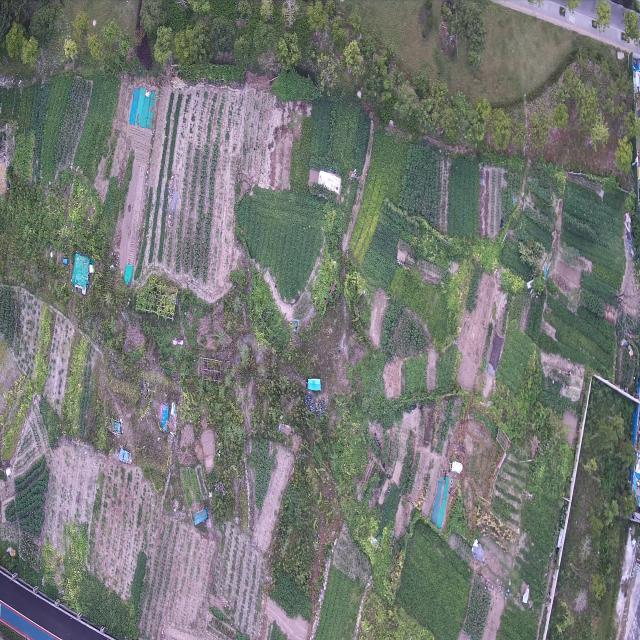UAV: (164, 188, 186, 222)
